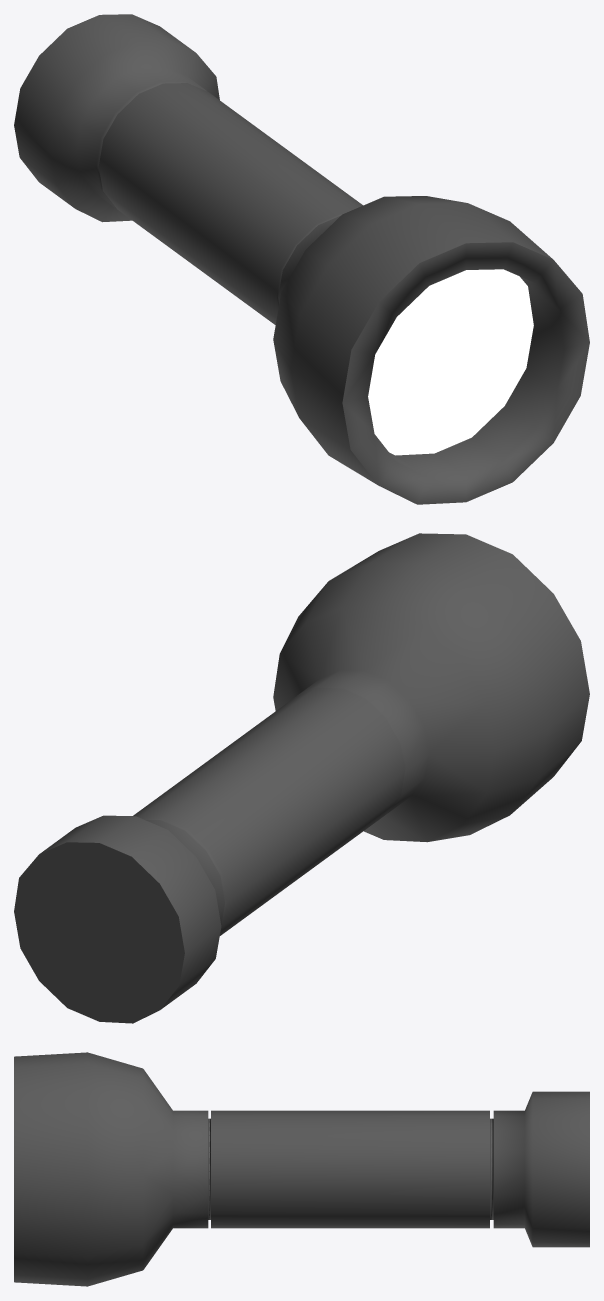
The picture shows the model from 3 angles, top to bottom: view 1: azimuth 30°, elevation 25°; view 2: azimuth 150°, elevation 25°; view 3: azimuth 270°, elevation 25°; orthographic projection. The views are drawn at different scales.
Visible parts, largest first — view 1: Flashlight_Low; view 2: Flashlight_Low; view 3: Flashlight_Low.
Part boxes in pixels (<box>): Flashlight_Low: <box>14,14,589,504</box>; Flashlight_Low: <box>14,533,589,1023</box>; Flashlight_Low: <box>14,1052,589,1286</box>.
Size of the model in its own units: 3.99 by 3.99 by 9.86.
1 material, 1 textured.
